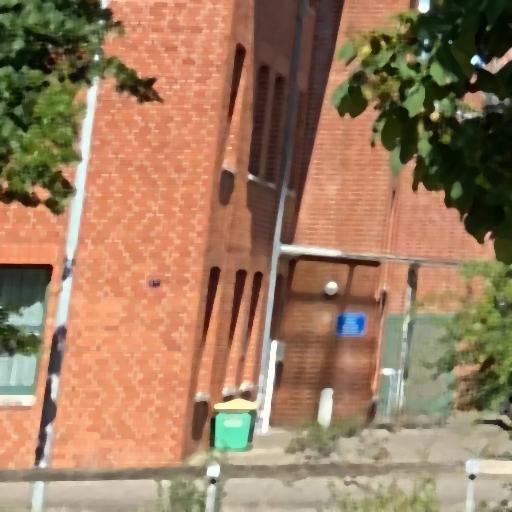tree: (331, 1, 512, 279), (1, 1, 165, 216)
